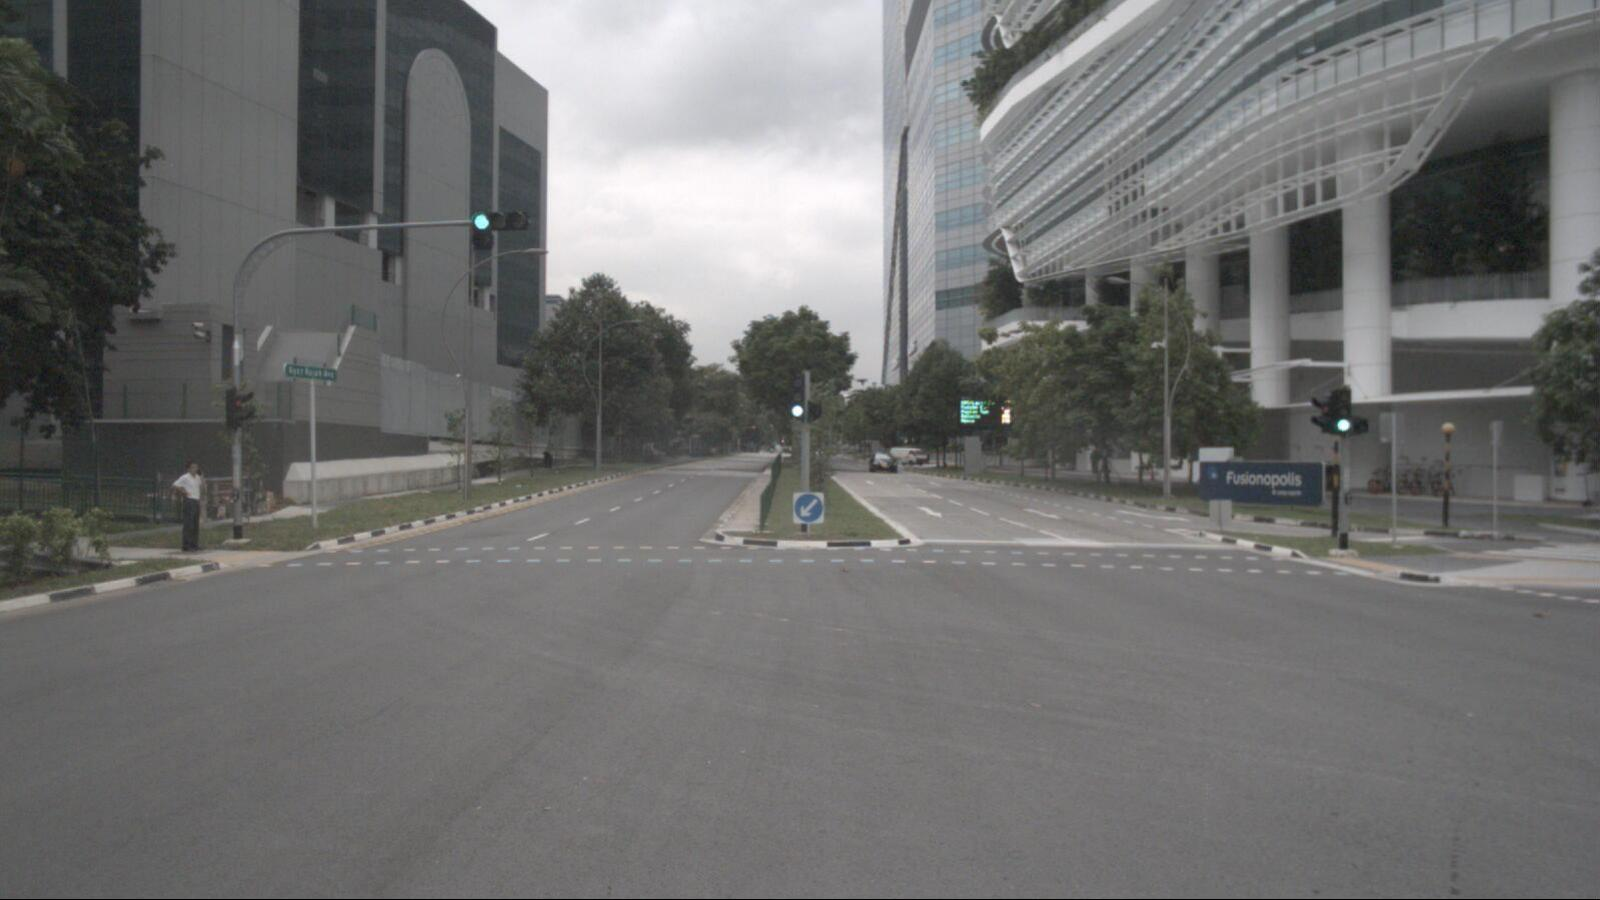human.pedestrian.adult-pedestrian.moving: (170, 460, 207, 553)
human.pedestrian.adult-pedestrian.standing: (543, 436, 557, 469), (1088, 448, 1101, 474)
